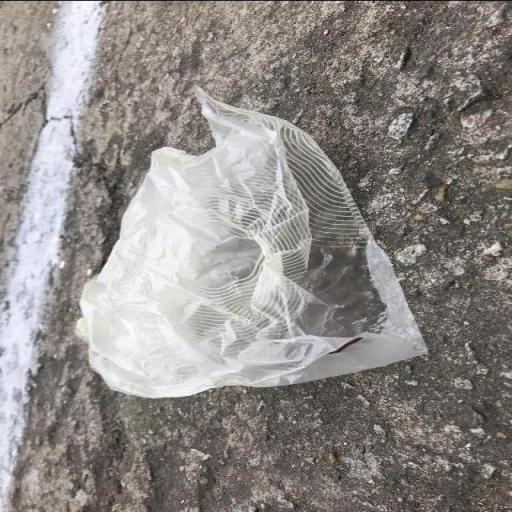plastic-bag: (72, 82, 435, 396)
